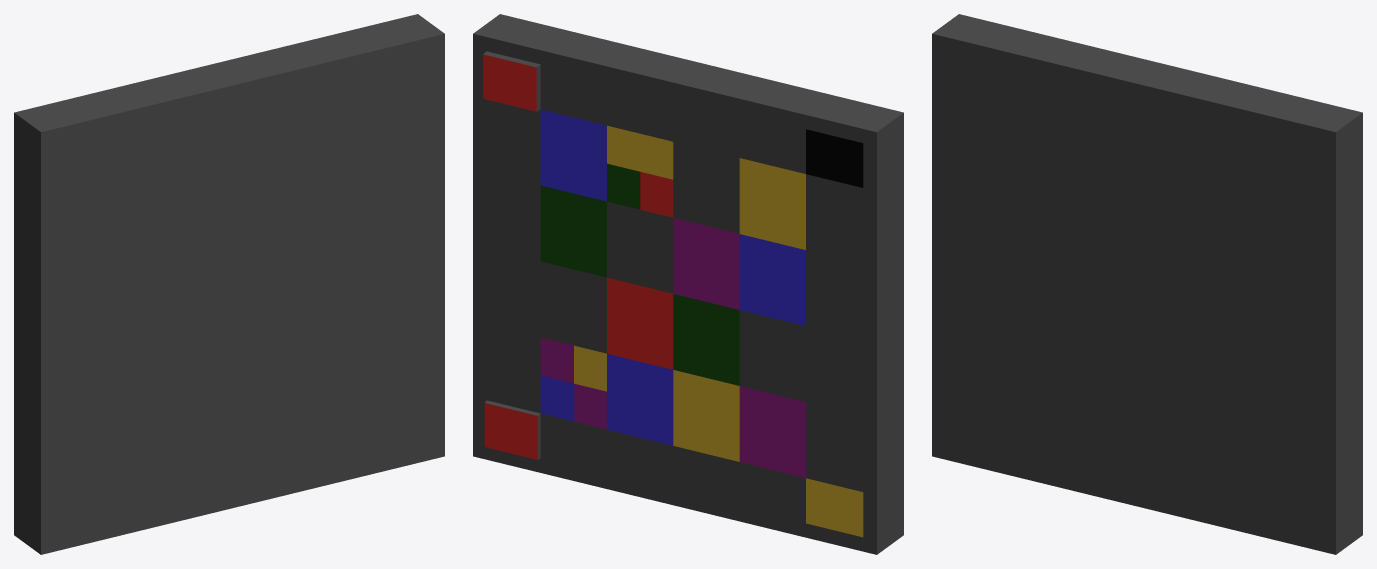
File: ControlPanel.fbx
3 renders of one model, left to right at view 1: azimuth 30°, elevation 25°; view 2: azimuth 150°, elevation 25°; view 3: azimuth 330°, elevation 25°, orthographic.
Visible parts, largest first — view 1: Cube; view 2: Cube; view 3: Cube.
Boxes of the visible parts, left/top/right/bottom form: Cube: left=14, top=14, right=444, bottom=554; Cube: left=473, top=14, right=903, bottom=554; Cube: left=932, top=14, right=1362, bottom=554.
Size of the model in its own units: 200 by 200 by 26.37.
